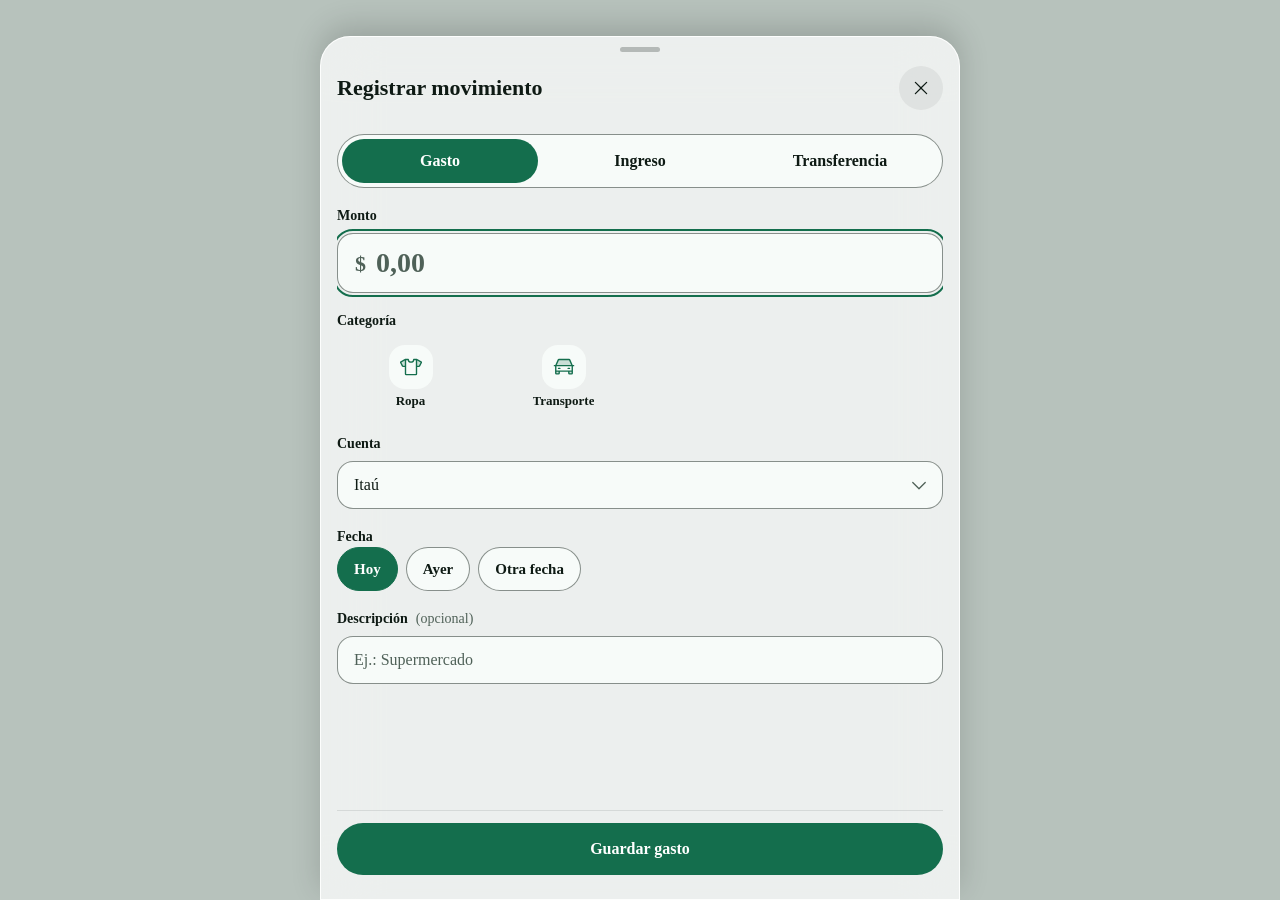
closing and the second step › returns to the form after choosing a subcategory, with the title back
The image size is (1280, 900).
Check: the field labelled "Monto" is shown, box [337,233,943,293]
Click the button "Transporte".
click(564, 377)  # box [490,339,637,416]
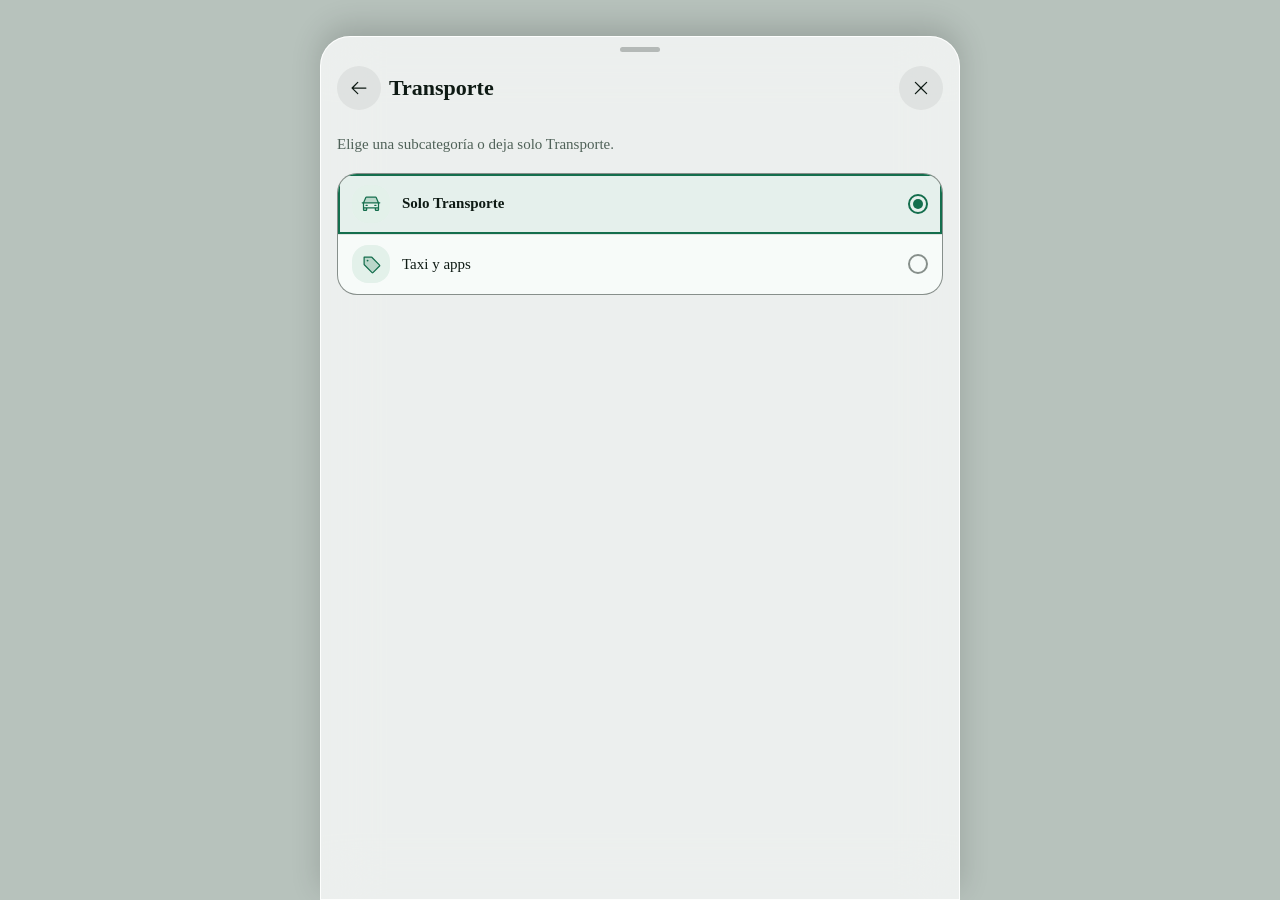
Click the radio button labelled "Taxi y apps".
click(640, 264)  # box [338,234,942,294]
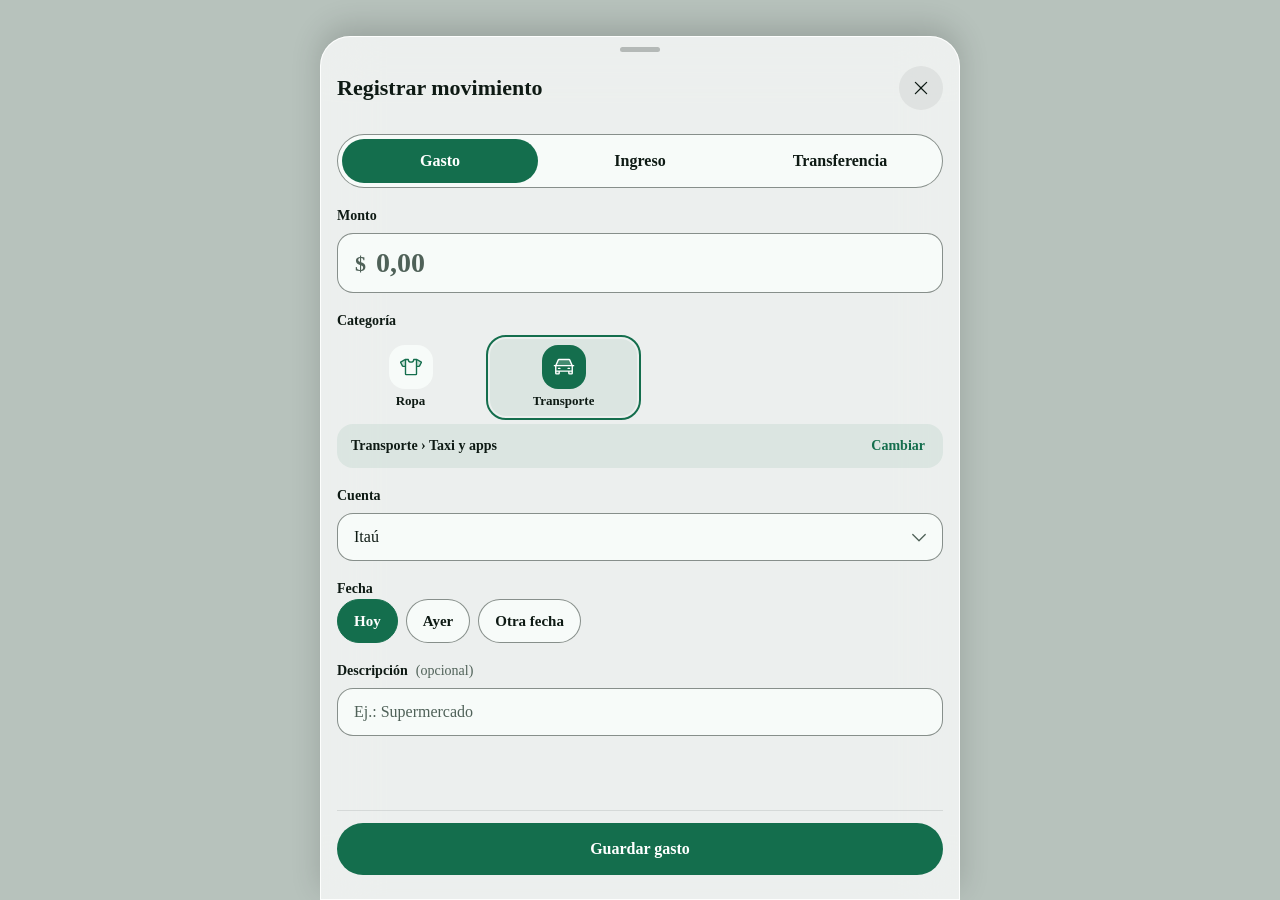
Check: the dialog "Registrar movimiento" is shown, box [320,36,960,899]
Check: the text "Transporte › Taxi y apps" is shown, box [351,436,497,456]
